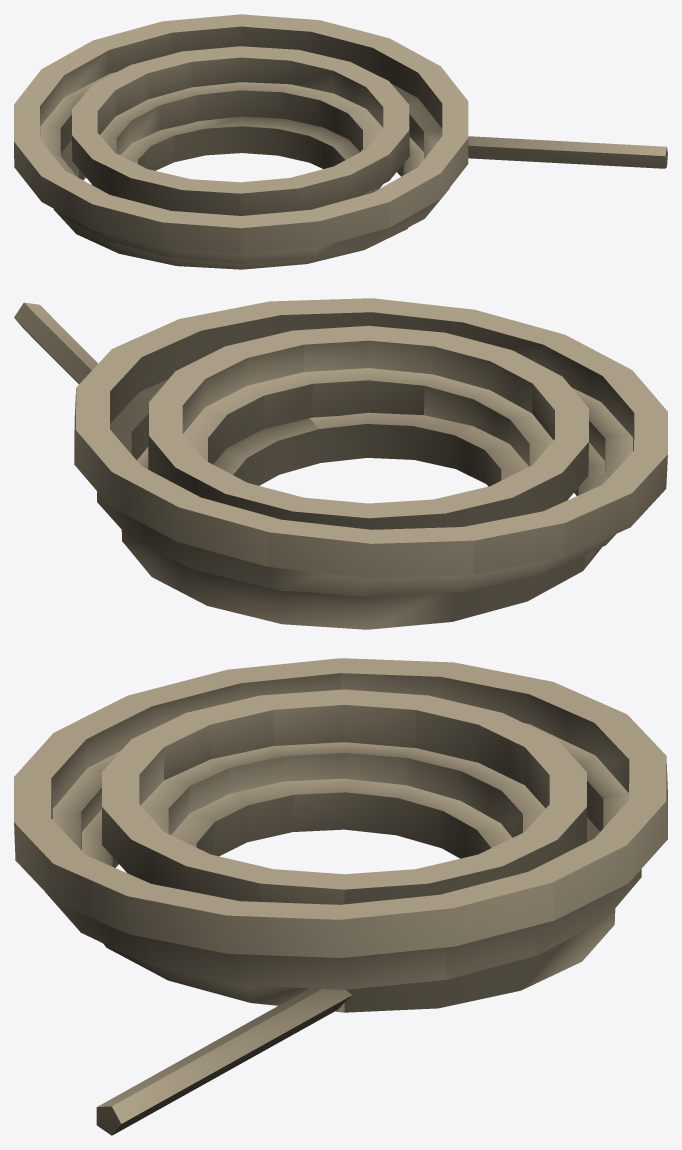
File: rope_coil.glb
The picture shows the model from 3 angles, top to bottom: view 1: azimuth 30°, elevation 25°; view 2: azimuth 150°, elevation 25°; view 3: azimuth 270°, elevation 25°; orthographic projection. The views are drawn at different scales.
Parts seen in each view (by area): view 1: static; view 2: static; view 3: static.
Part boxes in pixels (x1,y1,x2,y2): static: [14, 14, 667, 269]; static: [14, 298, 667, 629]; static: [14, 658, 667, 1135].
Size of the model in its own units: 0.9645 by 0.1492 by 0.6906.
